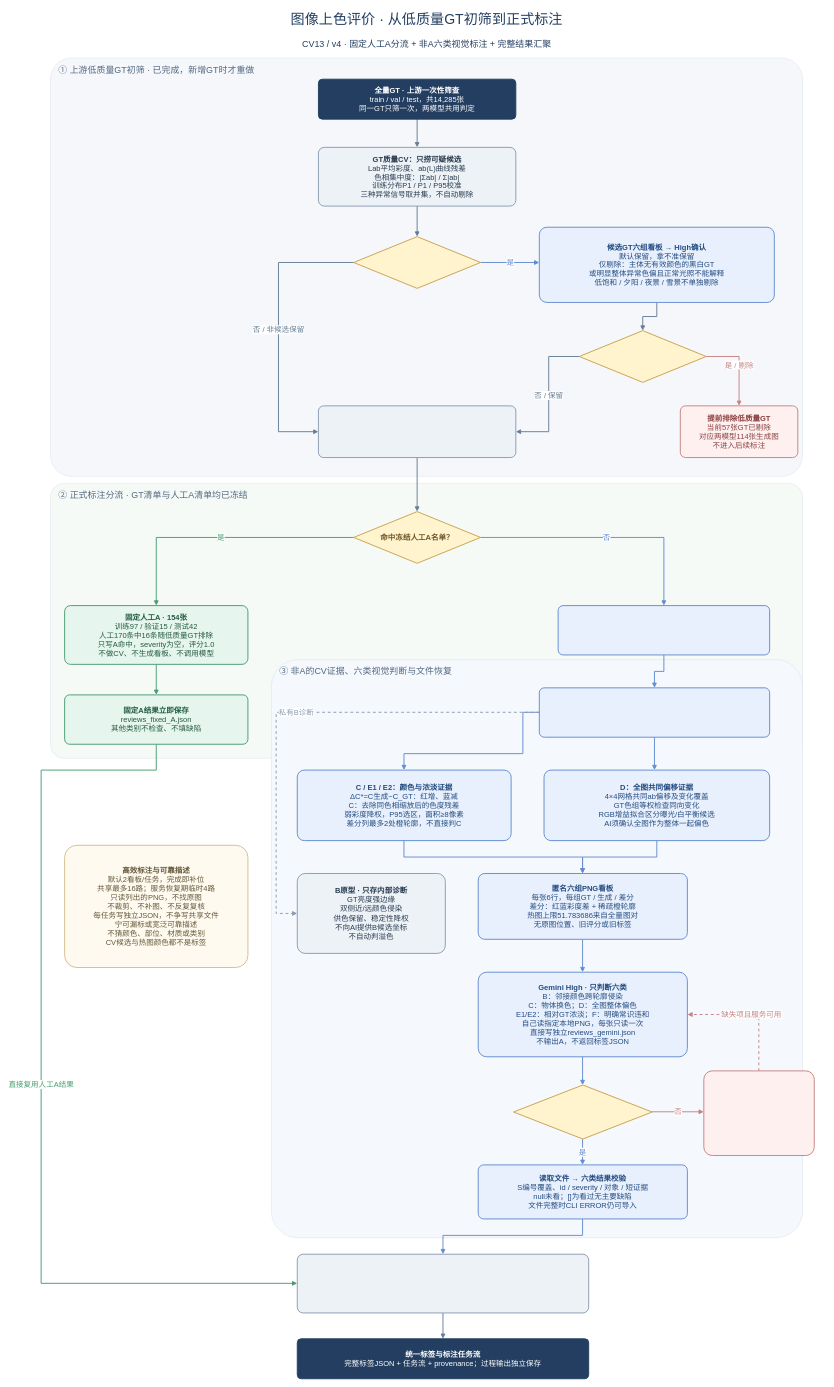
Image size: 834x1387. Some labels were removed from this diagram. The centre of each missing label's shape, as x and y in pixels:
"GT / 生成图对齐 → RGB转Lab CV分析最长边256，GT直接作颜色参考 C/B低彩度参照4.299005来自全量GT" goes at pixel 654 712.
"其余28,302张 · 六类视觉范围 只检查B / C / D / E1 / E2 / F A由固定名单决定，模型不再判A" goes at pixel 663 630.
"冻结清单 · 保留有效数据 14,228有效GT → 28,456生成图 日常prepare直接复用排除清单 下游不重新判断GT资格" goes at pixel 417 431.
"只恢复缺失结果 成功标签与失败现场保留 同任务本轮最多恢复2次 仍失败保留待办 个人配额耗尽停止调用 不因CLI报错重跑完整文件" goes at pixel 759 1113.
"实际JSON完整合法？" goes at pixel 582 1111.
"是否为CV可疑GT？" goes at pixel 417 262.
"汇聚固定人工A + AI六类结果 按源身份对应，保留全部GT合格输入 A分支只标A；六类分支禁止模型输出A 检查缺失 / 重复 / 标签范围，作者来源分别记录" goes at pixel 443 1283.
"确认GT不可信？" goes at pixel 642 356.
